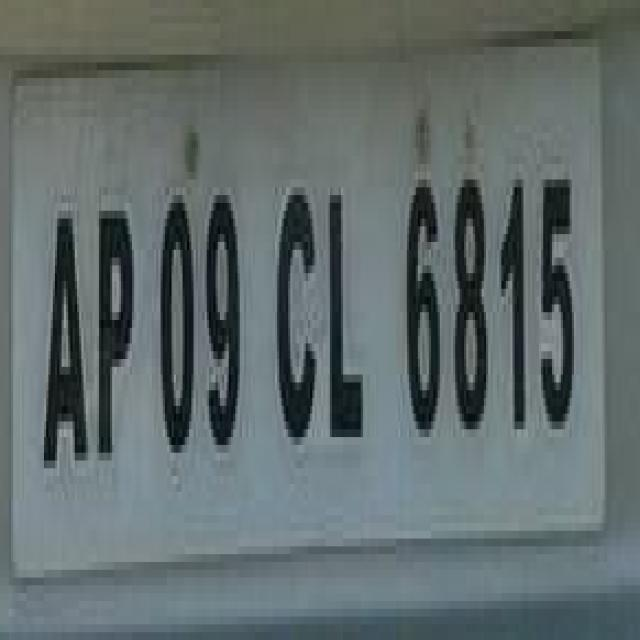license_plate: (0, 24, 616, 594)
